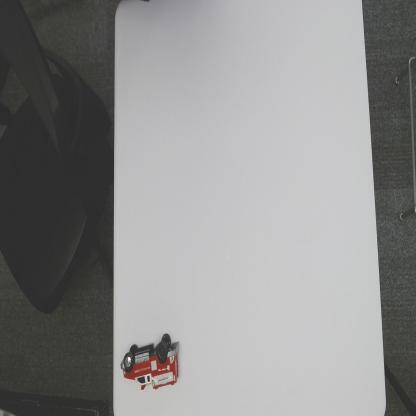Firetruck: (119, 332, 180, 390)
